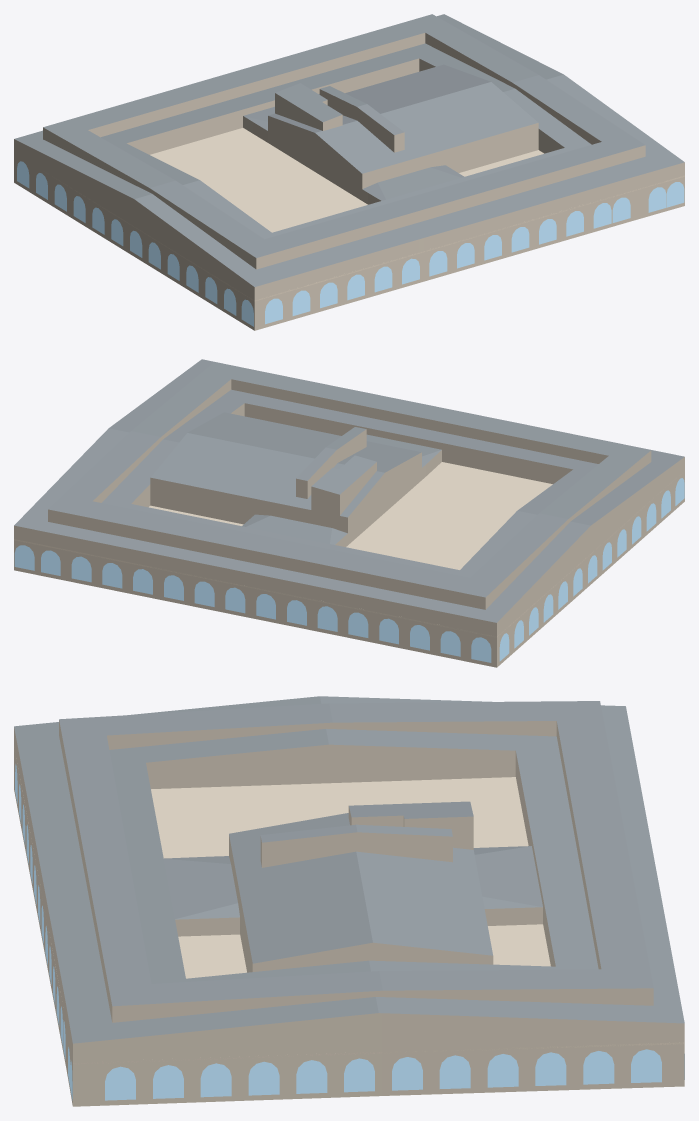
Rendered from detail.glb.
3 renders of one model, top to bottom at view 1: azimuth 30°, elevation 25°; view 2: azimuth 150°, elevation 25°; view 3: azimuth 270°, elevation 25°, orthographic. The views are drawn at different scales.
Parts seen in each view (by area): view 1: roof, stone, window, trim; view 2: roof, stone, window, trim; view 3: roof, stone, window.
Boxes of the visible parts, bbox=[...] form: roof: bbox=[14, 14, 684, 286]; stone: bbox=[14, 32, 684, 330]; window: bbox=[17, 161, 684, 326]; trim: bbox=[43, 171, 684, 301]; roof: bbox=[14, 359, 684, 622]; stone: bbox=[14, 379, 684, 667]; window: bbox=[14, 478, 684, 662]; trim: bbox=[14, 478, 676, 637]; roof: bbox=[14, 696, 684, 1043]; stone: bbox=[14, 720, 684, 1106]; window: bbox=[15, 764, 684, 1100].
Bounding box in the file's own units: 97.6 × 16.2 × 81.99.
